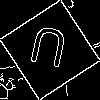U: (25, 25, 70, 77)
